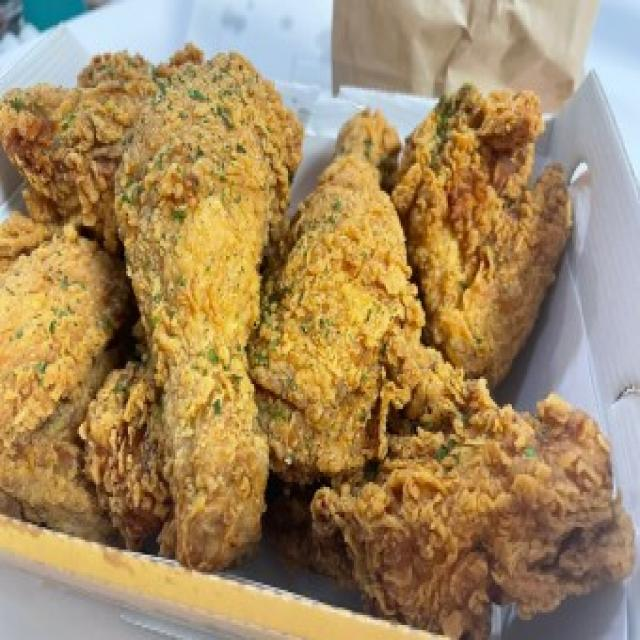Frango: (3, 41, 640, 640)
